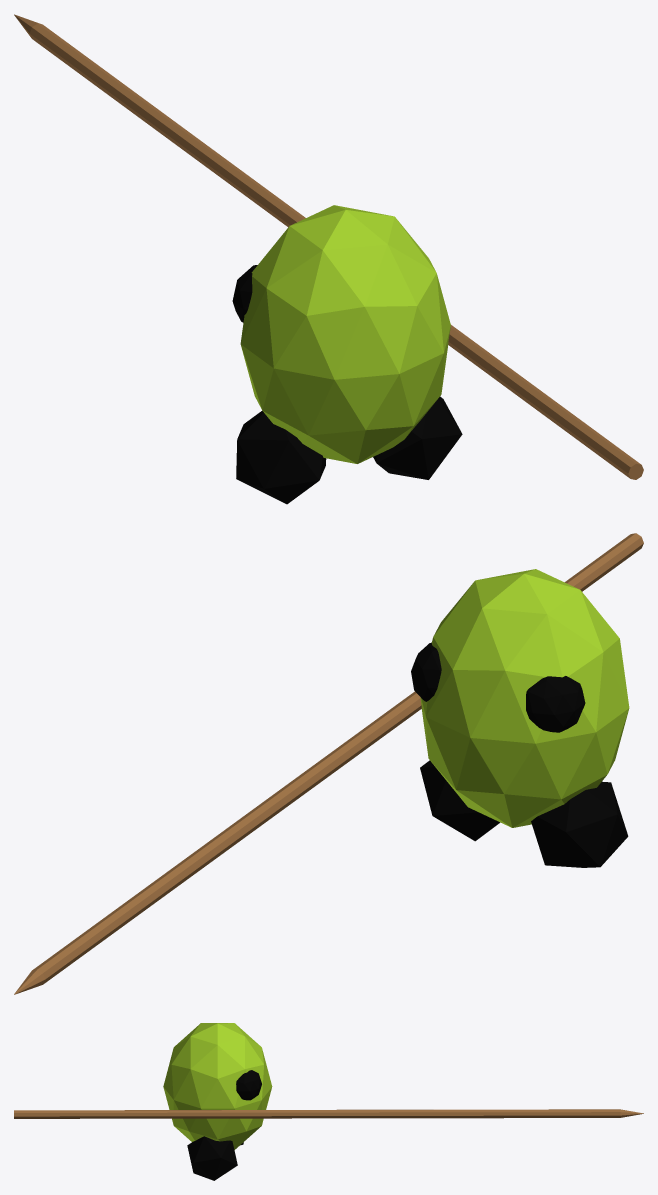
File: walk.f0013.glb
3 renders of one model, top to bottom at view 1: azimuth 30°, elevation 25°; view 2: azimuth 150°, elevation 25°; view 3: azimuth 270°, elevation 25°, orthographic. The views are drawn at different scales.
Parts seen in each view (by area): view 1: Body.001; view 2: Body.001; view 3: Body.001.
Part boxes in pixels (x1=…): Body.001: x1=14, y1=14, x2=643, y2=504; Body.001: x1=14, y1=533, x2=643, y2=994; Body.001: x1=14, y1=1023, x2=643, y2=1180.
Bounding box in the file's own units: 2.17 × 2.87 × 11.56.
1 material, 1 textured.
